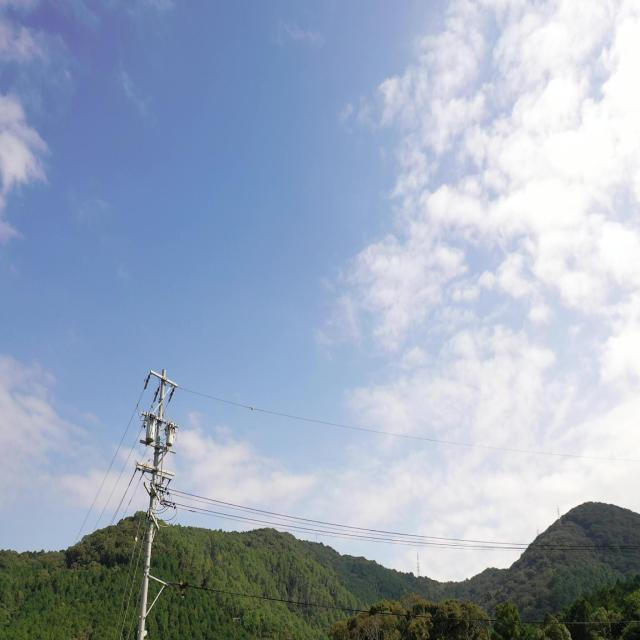Birds: (174, 578, 188, 598)
